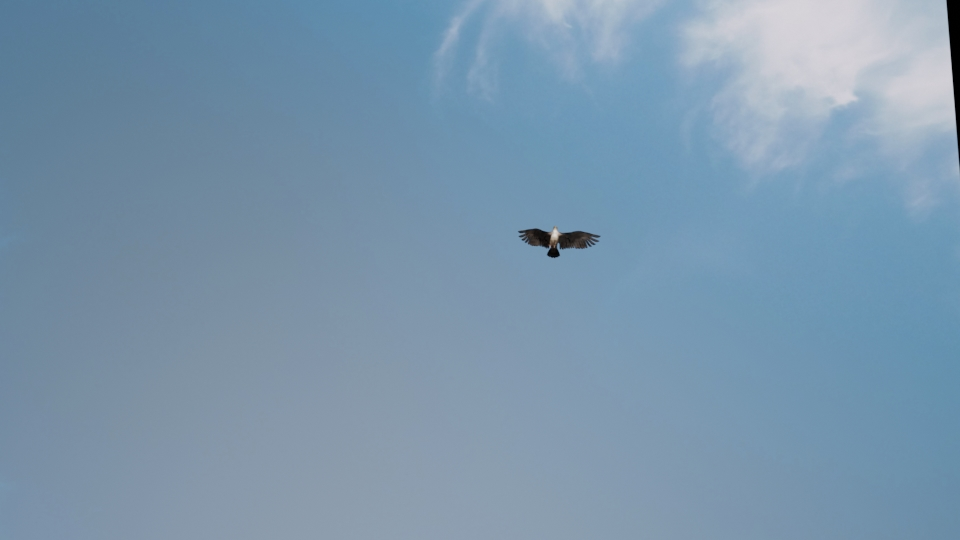bird: (519, 224, 598, 255)
